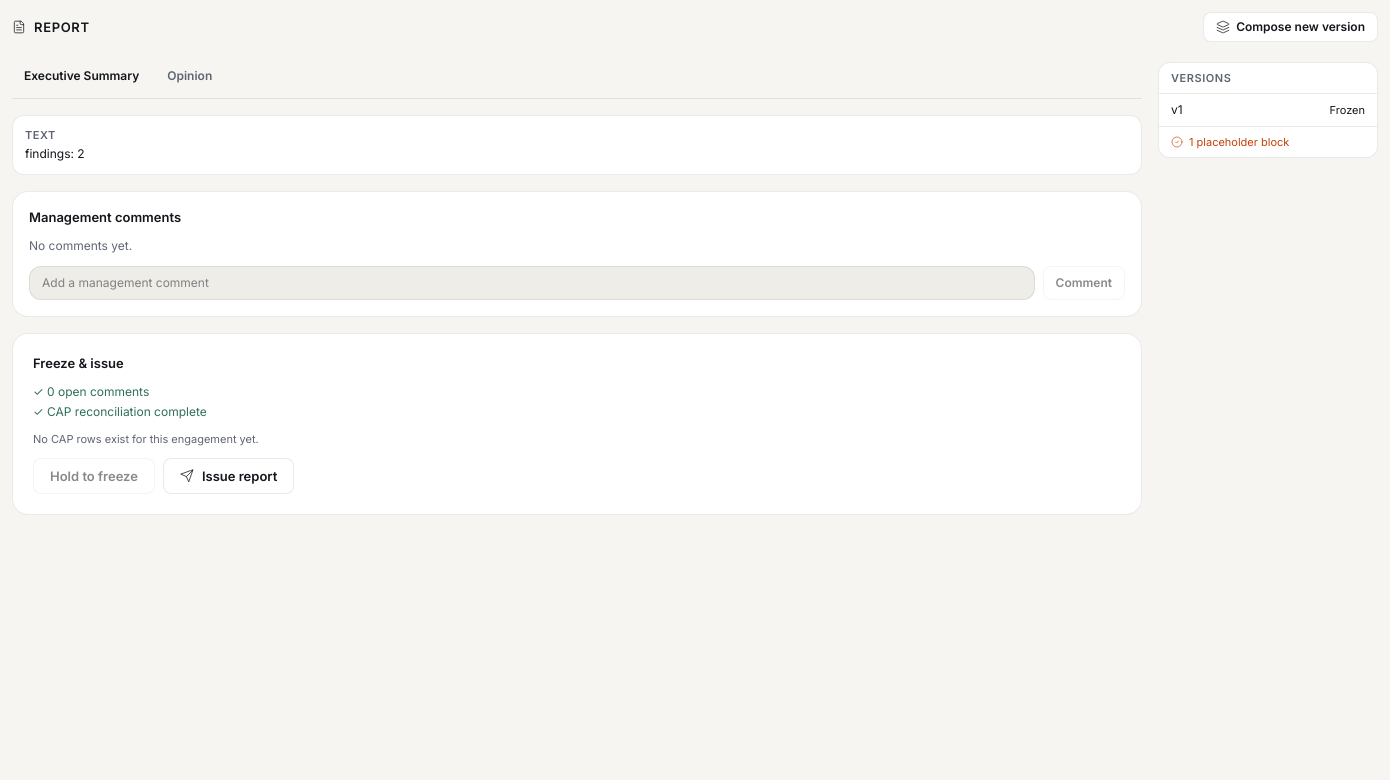
Test: Phase 6 UI panels (6H) › ReportEditorPanel › issues the report and shows the queued-email notice
This screenshot has width=1390, height=780.
Press the mouse on the button with test id "report-issue" at {"x": 229, "y": 476}, box x1=163 y1=458 x2=294 y2=494
Wait 2200 ms
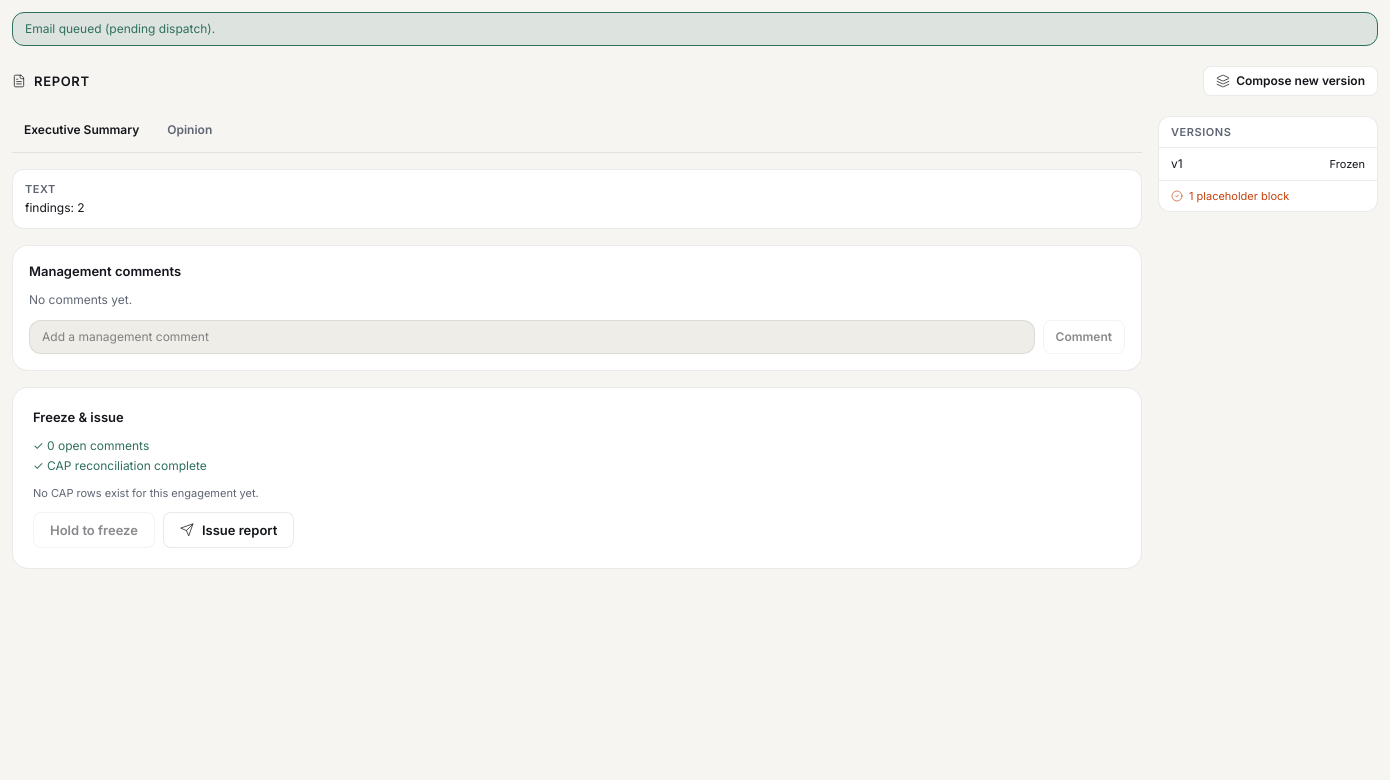
Check: the text with test id "report-notice" shows "Email queued", box x1=25 y1=21 x2=215 y2=36
